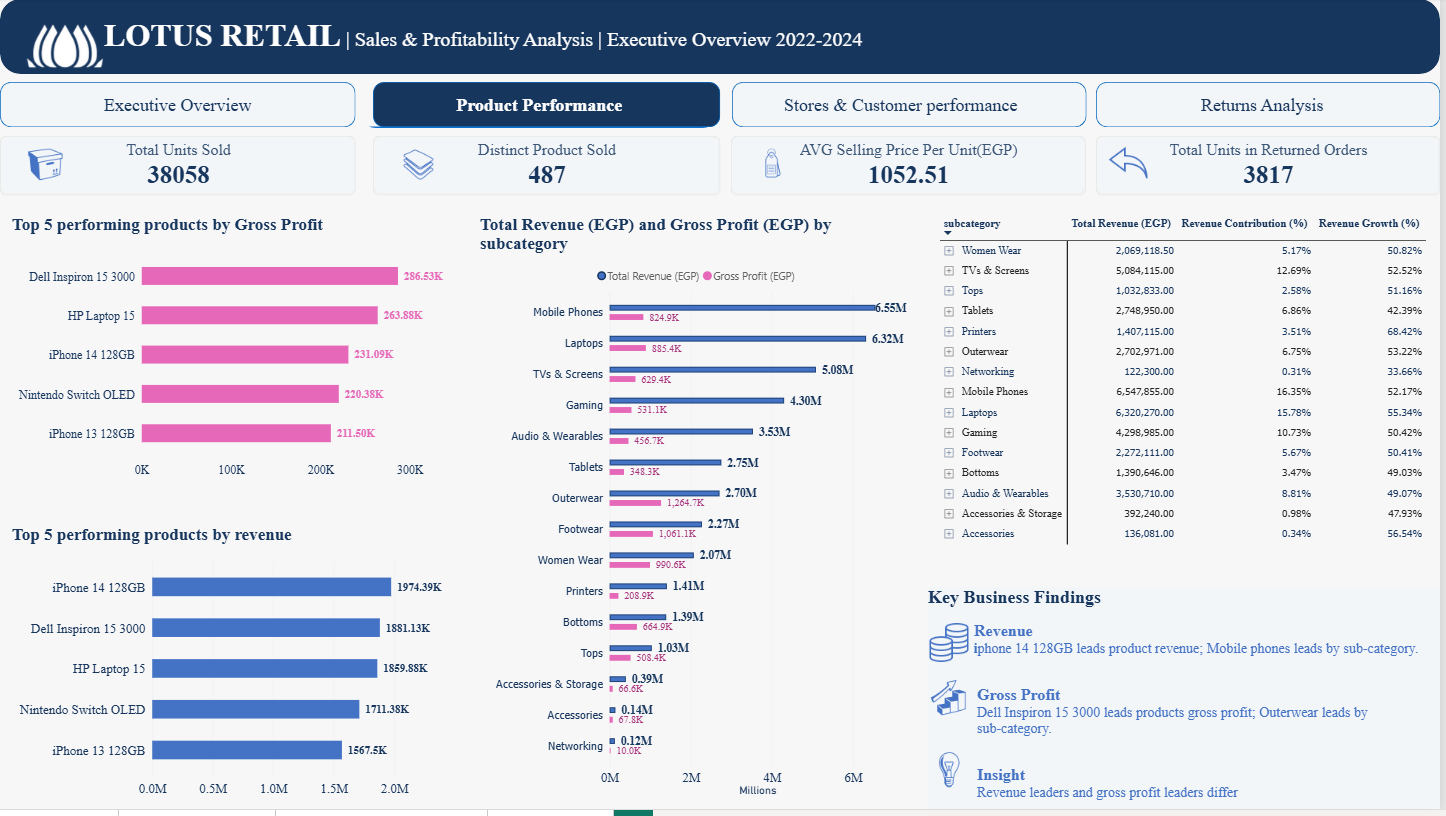

The page's visual inventory and layout, read from the dashboard file:
{"tool":"powerbi","page":{"name":"Product Performance","canvas":[1920,1080],"ordinal":1},"visuals":[{"type":"shape","box":[0,0,1920,100],"z":0},{"type":"image","box":[9.8,0,156.4,125.7],"z":1000},{"type":"textbox","box":[138.4,24.7,1227.4,86.3],"z":2000},{"type":"shape","box":[0,111,474,60.3],"z":3000},{"type":"shape","box":[497.3,111,463,60.3],"z":4000},{"type":"shape","box":[975.3,111,472.6,60.3],"z":5000},{"type":"shape","box":[1461.6,111,458.9,60.3],"z":6000},{"type":"cardVisual","fields":{"Data":["Measures (2).Total Units Sold"]},"box":[0,182.9,474.3,78.6],"z":11000},{"type":"image","box":[31.5,193.2,56,52],"z":12000},{"type":"cardVisual","fields":{"Data":["Measures (2).Distinct Product Sold"]},"box":[497.1,182.9,462.9,78.6],"z":13000},{"type":"image","box":[527.4,193.2,56,52],"z":14000},{"type":"cardVisual","fields":{"Data":["Measures (2).AVG Selling Price Per Unit(EGP)"]},"box":[974.3,182.9,472.9,78.6],"z":15000},{"type":"image","box":[1001.4,193.2,56,52],"z":16000},{"type":"cardVisual","fields":{"Data":["Measures (2).Total Units in Returned Orders"]},"box":[1461.4,182.9,458.6,78.6],"z":17000},{"type":"clusteredBarChart","fields":{"Category":["Products.subcategory"],"Y":["Measures (2).Total Revenue (EGP)","Measures (2).Gross Profit (EGP)"]},"box":[624.2,273.7,613,805.7],"z":18000},{"type":"image","box":[1475.7,192.9,56,52],"z":22000},{"type":"clusteredBarChart","title":"Top 5 performing products by Gross Profit","fields":{"Category":["Products.product_name"],"Y":["Measures (2).Gross Profit (EGP)"]},"box":[0,273.6,624.5,381.8],"z":23000},{"type":"clusteredBarChart","title":"Top 5 performing products by revenue","fields":{"Category":["Products.product_name"],"Y":["Measures (2).Total Revenue (EGP)"]},"box":[0,686.4,624.5,394.2],"z":24000},{"type":"pivotTable","fields":{"Rows":["Products.subcategory","dim_date.Year"],"Values":["Measures (2).Total Revenue (EGP)","Measures (2).Revenue Contribution (%)","Measures (2).Revenue Growth (%)"]},"box":[1237.2,273.7,682.8,498.5],"z":25000},{"type":"textbox","box":[1237.2,783.4,682.8,296],"z":26000},{"type":"image","box":[1237.2,832.2,56,52],"z":27000},{"type":"image","box":[1237.2,904.8,55.7,51.4],"z":28000},{"type":"image","box":[1237.2,1001.2,56,52],"z":29000},{"type":"pageNavigator","box":[0,111.6,1920,60.4],"z":29001}]}

Visuals, with their boxes in screenshot pixels (x1, y1, x2, y2), scaled from the page's 1920x1080 canvas onto the 1446x816 screenshot:
shape: pyautogui.locateOnScreen(0, 0, 1445, 76)
image: pyautogui.locateOnScreen(7, 0, 125, 95)
textbox: pyautogui.locateOnScreen(104, 19, 1029, 84)
shape: pyautogui.locateOnScreen(0, 84, 357, 129)
shape: pyautogui.locateOnScreen(375, 84, 723, 129)
shape: pyautogui.locateOnScreen(735, 84, 1090, 129)
shape: pyautogui.locateOnScreen(1101, 84, 1445, 129)
cardVisual - Measures (2).Total Units Sold: pyautogui.locateOnScreen(0, 138, 357, 198)
image: pyautogui.locateOnScreen(24, 146, 66, 185)
cardVisual - Measures (2).Distinct Product Sold: pyautogui.locateOnScreen(374, 138, 723, 198)
image: pyautogui.locateOnScreen(397, 146, 439, 185)
cardVisual - Measures (2).AVG Selling Price Per Unit(EGP): pyautogui.locateOnScreen(734, 138, 1090, 198)
image: pyautogui.locateOnScreen(754, 146, 796, 185)
cardVisual - Measures (2).Total Units in Returned Orders: pyautogui.locateOnScreen(1101, 138, 1445, 198)
clusteredBarChart - Products.subcategory x Measures (2).Total Revenue (EGP): pyautogui.locateOnScreen(470, 207, 932, 815)
image: pyautogui.locateOnScreen(1111, 146, 1154, 185)
"Top 5 performing products by Gross Profit" clusteredBarChart: pyautogui.locateOnScreen(0, 207, 470, 495)
"Top 5 performing products by revenue" clusteredBarChart: pyautogui.locateOnScreen(0, 519, 470, 815)
pivotTable - Products.subcategory x dim_date.Year: pyautogui.locateOnScreen(932, 207, 1445, 583)
textbox: pyautogui.locateOnScreen(932, 592, 1445, 815)
image: pyautogui.locateOnScreen(932, 629, 974, 668)
image: pyautogui.locateOnScreen(932, 684, 974, 722)
image: pyautogui.locateOnScreen(932, 756, 974, 796)
pageNavigator: pyautogui.locateOnScreen(0, 84, 1445, 130)
